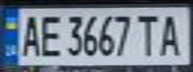3: (63, 11, 84, 57)
6: (97, 11, 118, 57), (81, 11, 100, 57)
7: (112, 11, 136, 57)
A: (157, 10, 187, 57), (15, 11, 42, 58)
E: (36, 11, 63, 58)
T: (133, 11, 160, 57)
